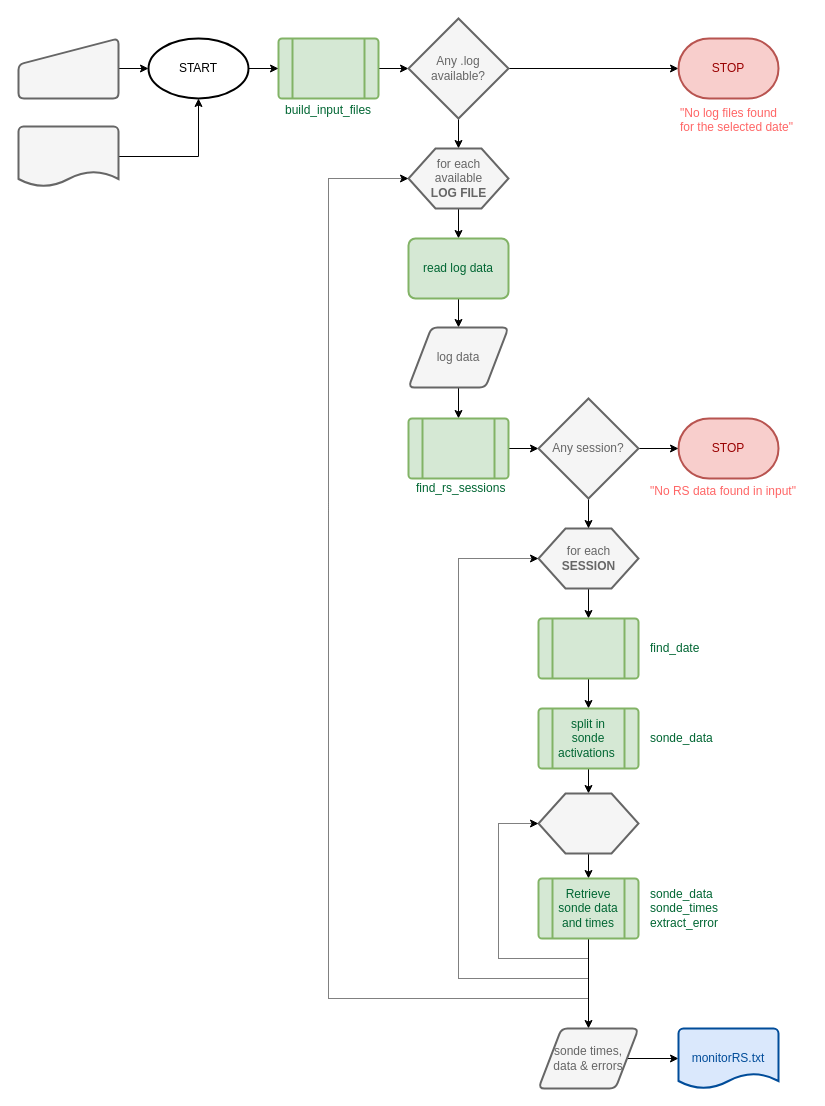
The diagram is 825 pixels wide and 1106 high, and some of its shapes have lost their labels. Each missing label, with the centre of its shape:
"build input .log filenames" goes at pixel 328 68.
"CONFIG file" goes at pixel 68 156.
"DATE (command line)" goes at pixel 68 68.
"find & check date" goes at pixel 588 648.
"for each activated SONDE" goes at pixel 588 823.
"split in RS SESSIONS (chunks)" goes at pixel 458 448.
